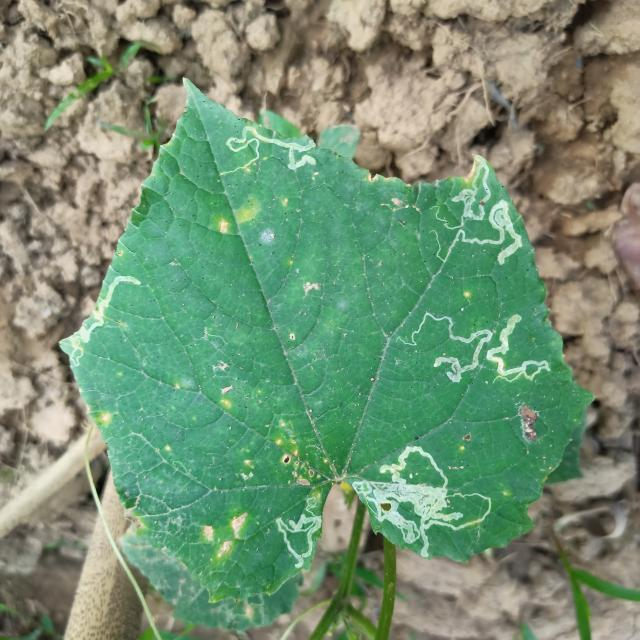disease_cucumber: (266, 415, 318, 489), (208, 191, 263, 239), (200, 511, 251, 558)
